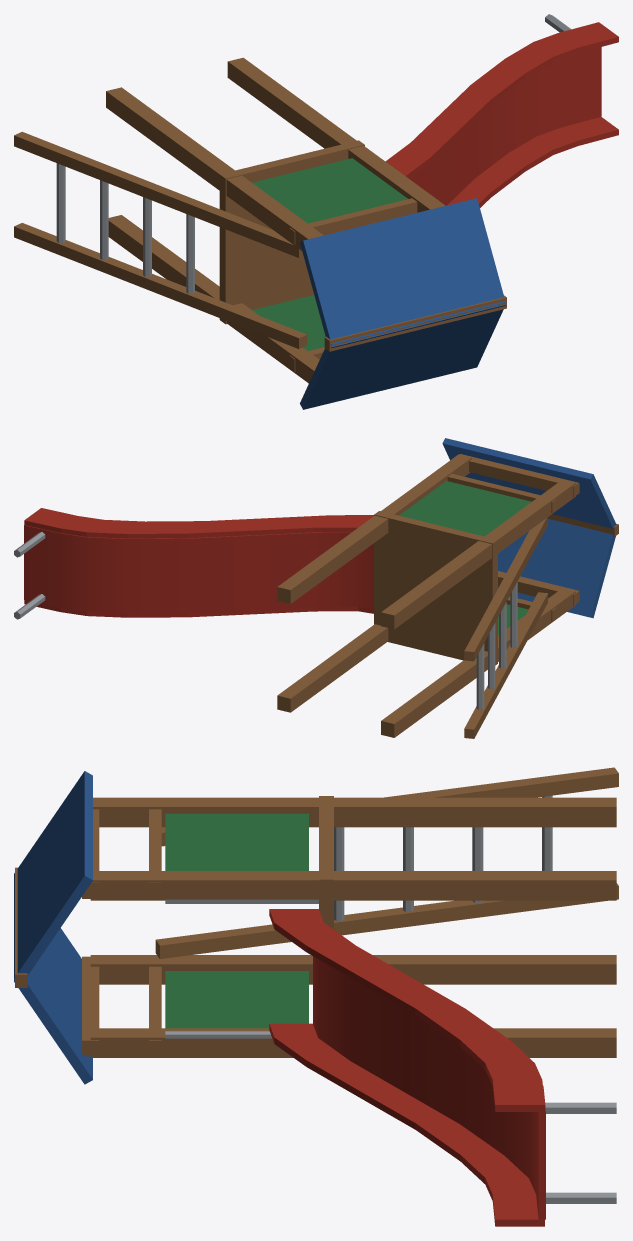
File: playground-slide.glb
3 views of the same model, one above another, from view 1: azimuth 30°, elevation 25°; view 2: azimuth 150°, elevation 25°; view 3: azimuth 270°, elevation 25° (orthographic). The views are drawn at different scales.
Visible parts, largest first — view 1: playground-slide; view 2: playground-slide; view 3: playground-slide.
Boxes of the visible parts, x1,y1,x2,y2 form: playground-slide: (14, 14, 618, 409); playground-slide: (14, 438, 618, 738); playground-slide: (14, 767, 618, 1226).
Bounding box in the file's own units: 3.2 × 0.9298 × 2.44.
